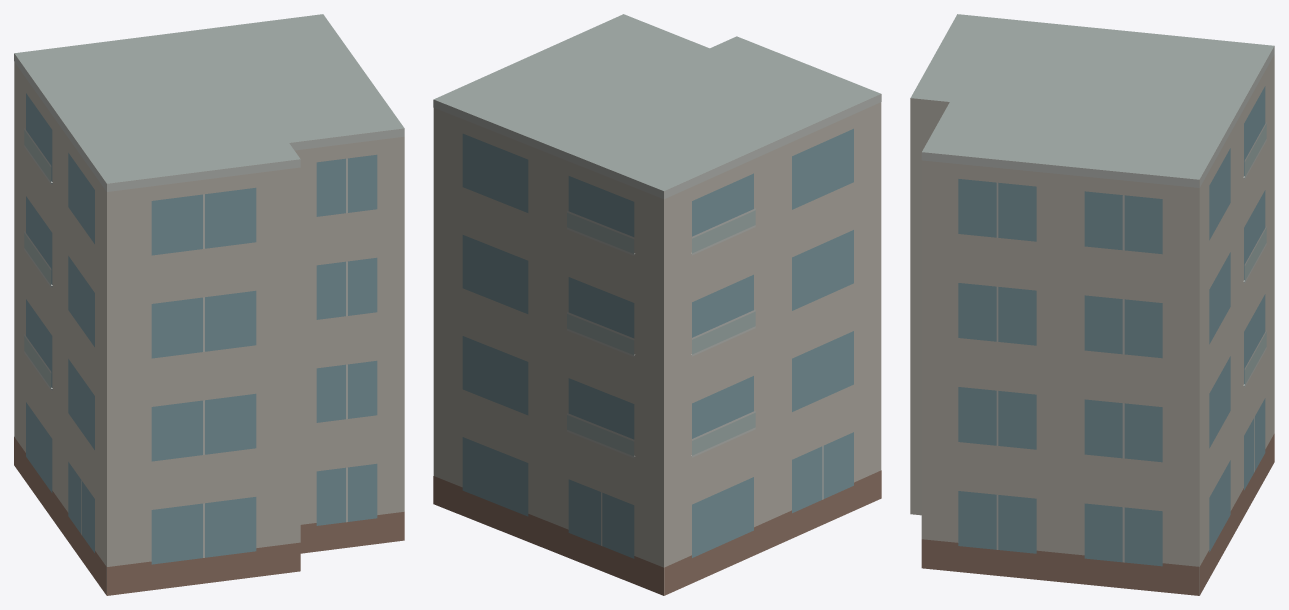
Rendered from residential-8e49d1b8-cd97-4201-a7c1-6cb573569900.glb.
3 views of the same model, side by side, from view 1: azimuth 30°, elevation 25°; view 2: azimuth 150°, elevation 25°; view 3: azimuth 270°, elevation 25° (orthographic). The views are drawn at different scales.
Parts seen in each view (by area): view 1: residential-8e49d1b8-cd97-4201-a7c1-6cb573569900.tmp; view 2: residential-8e49d1b8-cd97-4201-a7c1-6cb573569900.tmp; view 3: residential-8e49d1b8-cd97-4201-a7c1-6cb573569900.tmp.
Part boxes in pixels (x1=…): residential-8e49d1b8-cd97-4201-a7c1-6cb573569900.tmp: x1=14, y1=14, x2=404, y2=595; residential-8e49d1b8-cd97-4201-a7c1-6cb573569900.tmp: x1=433, y1=14, x2=881, y2=595; residential-8e49d1b8-cd97-4201-a7c1-6cb573569900.tmp: x1=910, y1=14, x2=1274, y2=595.
Bounding box in the file's own units: 10.43 × 12.2 × 9.69.
